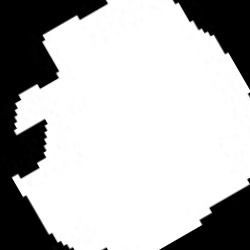spot: (13, 1, 249, 248)
